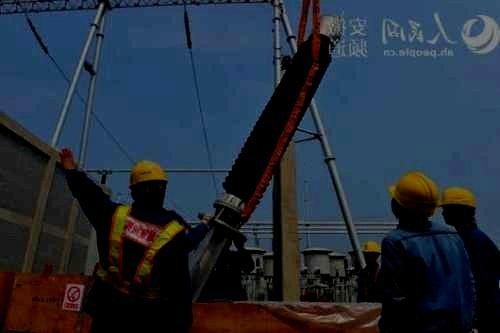helmet: (387, 168, 440, 227), (128, 159, 170, 209), (436, 185, 479, 228), (360, 240, 382, 265)
